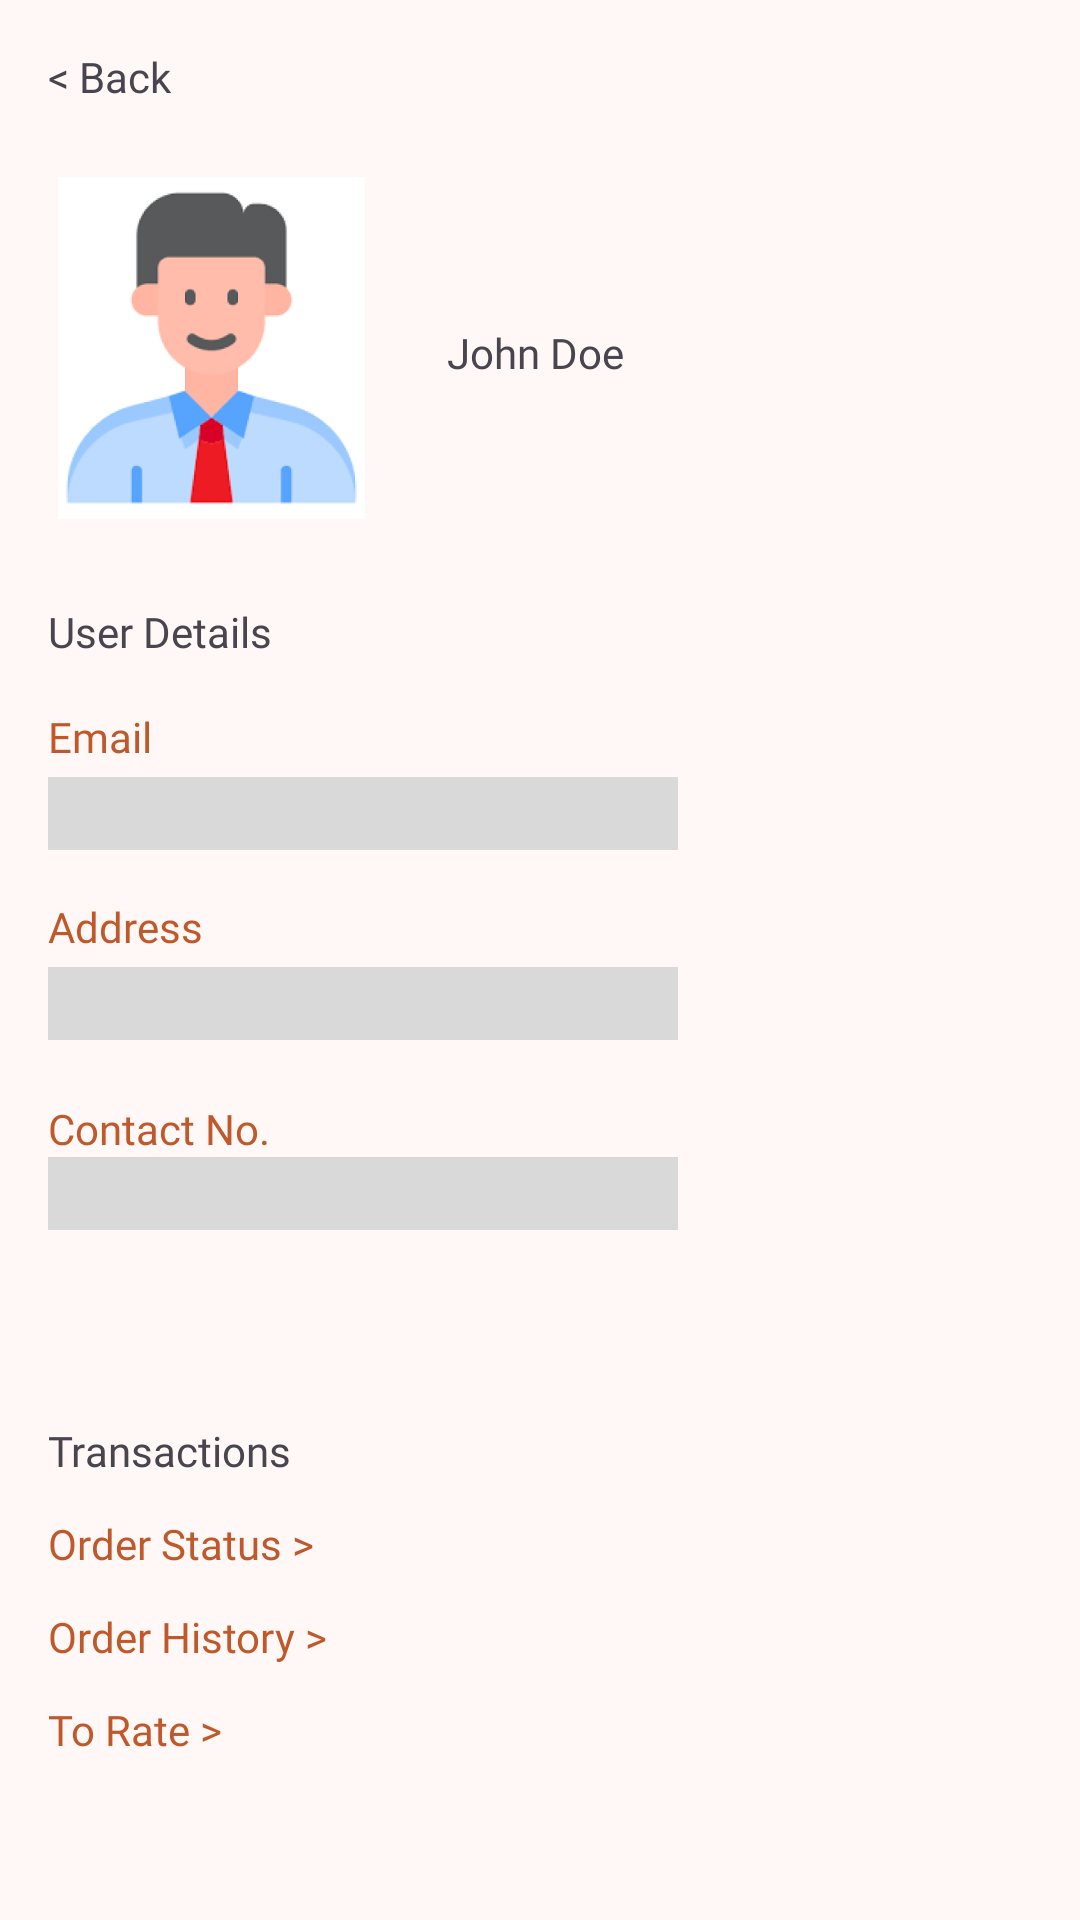

Screen size 1080x1920. Icon name, then its center in pixels as point (x, y):
profile: point (211, 348)
